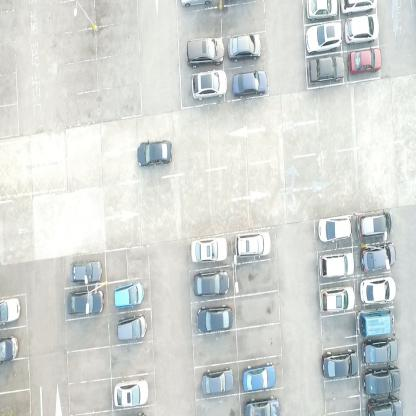car: (304, 21, 343, 55), (191, 68, 228, 102), (186, 35, 224, 68), (359, 240, 396, 272), (113, 378, 150, 410), (321, 350, 359, 380), (307, 55, 345, 85), (362, 368, 401, 397), (356, 308, 393, 338), (234, 230, 271, 260), (197, 304, 234, 334), (193, 268, 229, 298), (227, 32, 263, 62), (359, 276, 396, 305), (356, 209, 393, 238), (361, 338, 399, 366), (201, 365, 234, 397), (344, 14, 379, 44), (232, 70, 268, 99), (137, 140, 171, 170), (242, 362, 277, 391), (318, 251, 355, 278), (319, 286, 356, 313), (191, 236, 228, 263), (67, 289, 105, 315), (318, 215, 352, 243), (113, 280, 144, 310), (117, 313, 148, 343), (349, 48, 382, 76), (70, 258, 102, 284), (243, 396, 280, 415), (366, 398, 404, 416), (0, 296, 20, 327), (0, 334, 19, 364), (307, 0, 337, 18), (338, 0, 377, 13)
